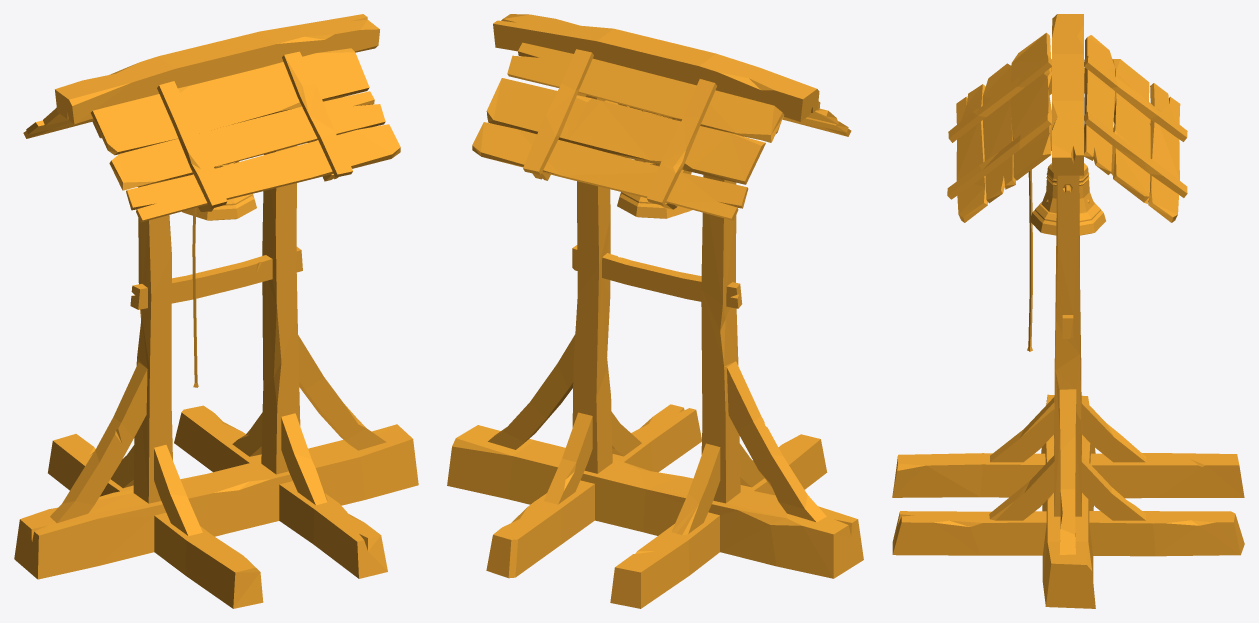
Rendered from SM_Warning_Bell_Fantasy.fbx.
The picture shows the model from 3 angles, left to right: view 1: azimuth 30°, elevation 25°; view 2: azimuth 150°, elevation 25°; view 3: azimuth 270°, elevation 25°; orthographic projection. The views are drawn at different scales.
Visible parts, largest first — view 1: warning-bell-base, warning-bell-bell, warning-bell-rope; view 2: warning-bell-base, warning-bell-bell; view 3: warning-bell-base, warning-bell-bell, warning-bell-rope.
Part boxes in pixels (x1,y1,x2,y2): warning-bell-base: (14, 14, 418, 608); warning-bell-bell: (182, 161, 256, 220); warning-bell-rope: (192, 208, 198, 387); warning-bell-base: (447, 14, 863, 608); warning-bell-bell: (604, 100, 691, 218); warning-bell-base: (892, 14, 1244, 608); warning-bell-bell: (1030, 163, 1105, 235); warning-bell-rope: (1027, 170, 1032, 351).
Size of the model in its own units: 2.62 by 3.06 by 2.21.
